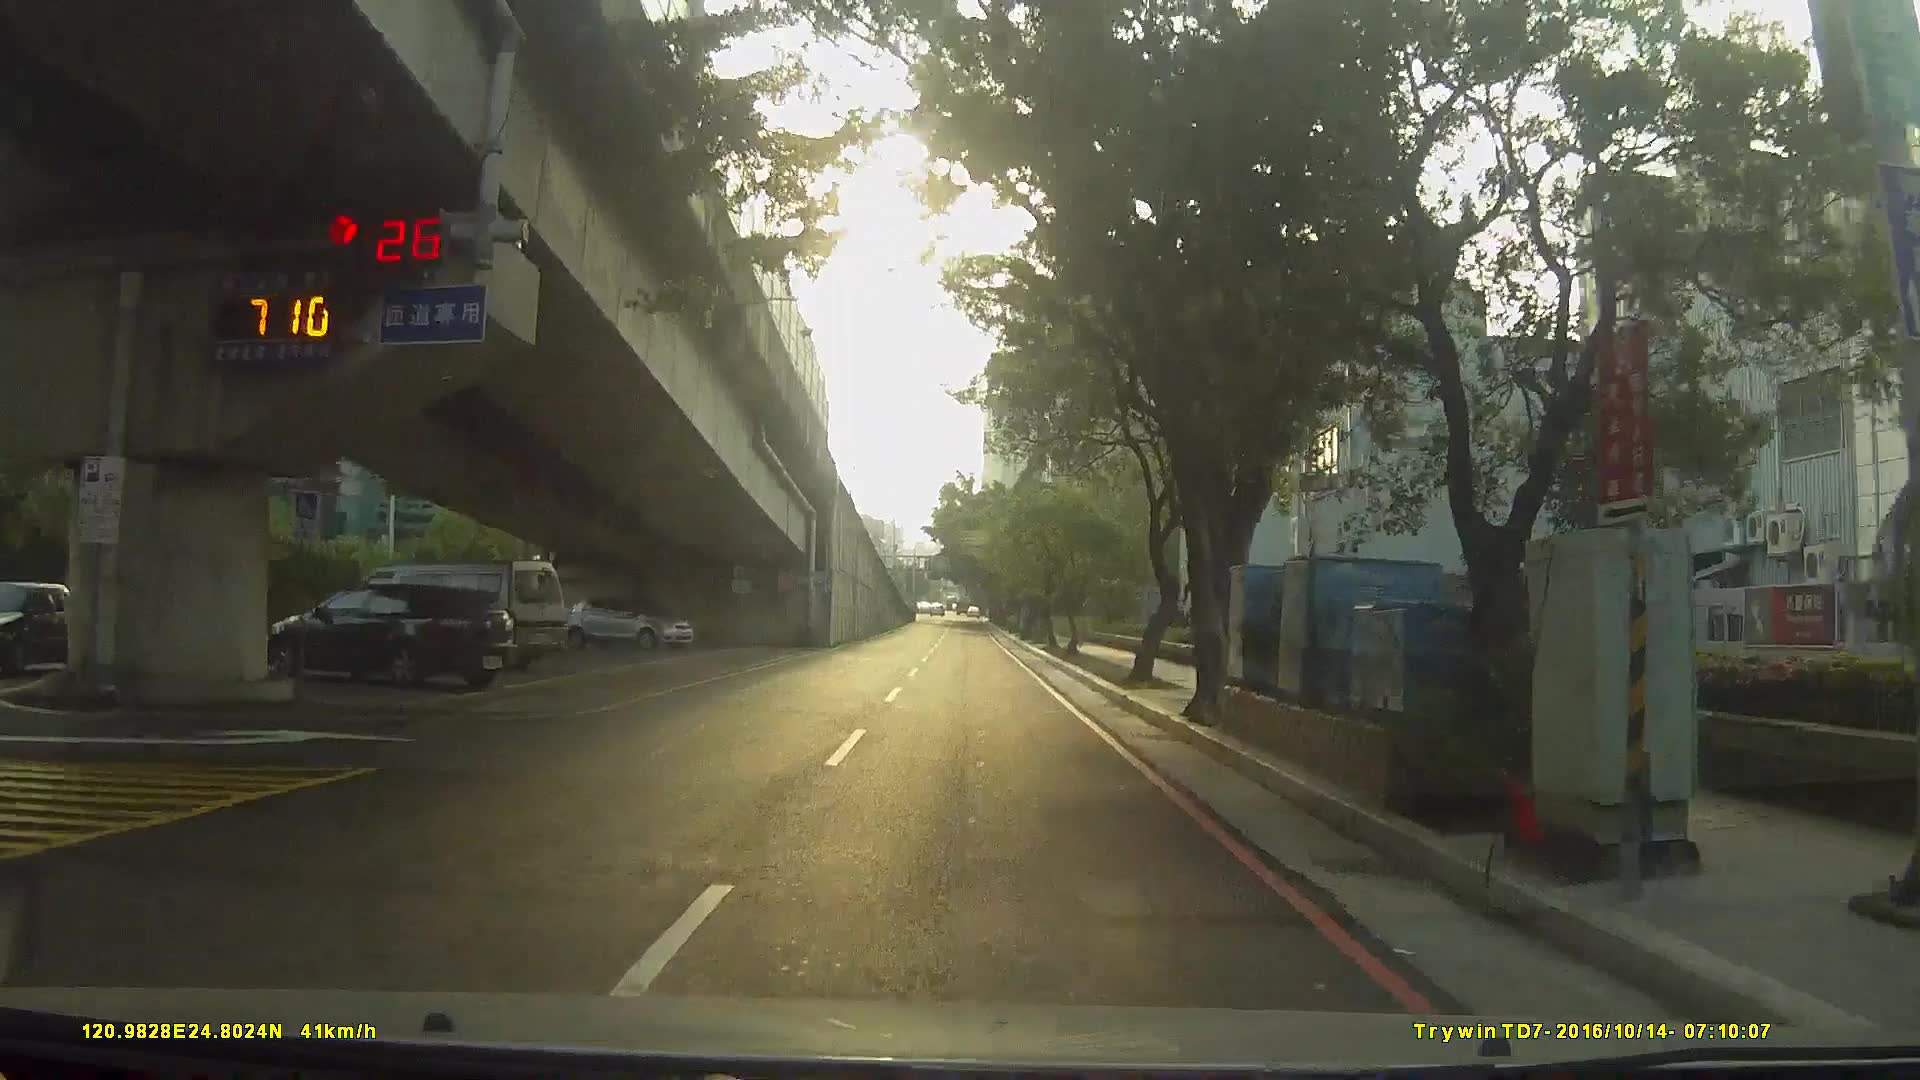vehicle: (330, 551, 574, 676), (249, 578, 514, 692), (3, 579, 104, 676), (562, 591, 694, 650)
